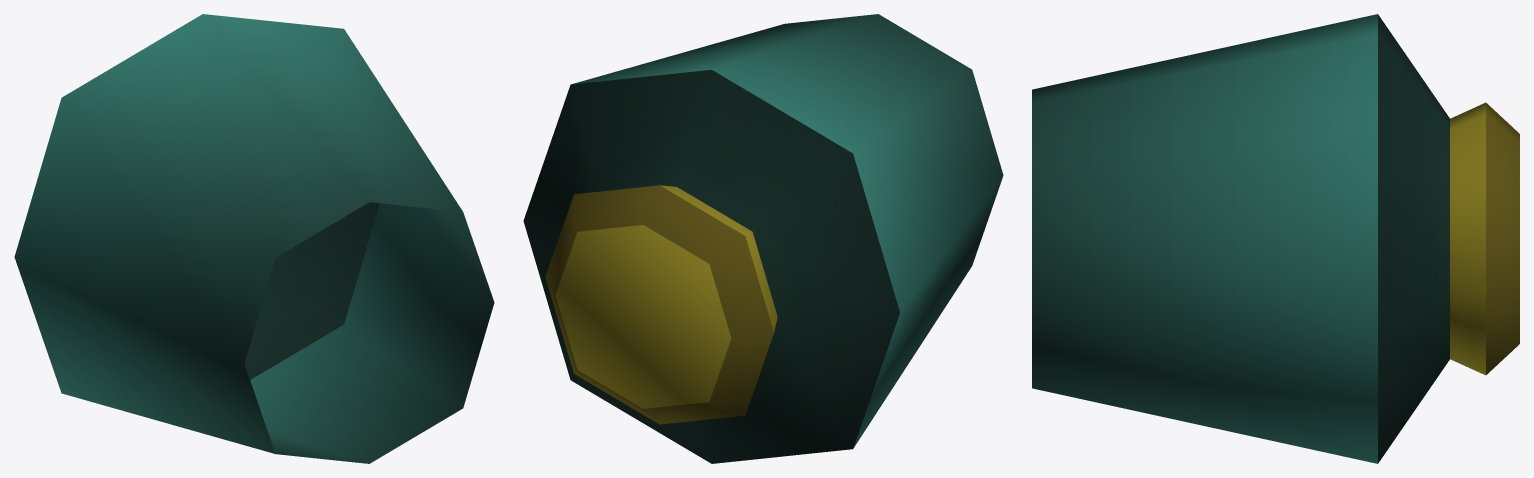
The model's file is Urn 01.FBX.
The picture shows the model from 3 angles, left to right: view 1: azimuth 30°, elevation 25°; view 2: azimuth 150°, elevation 25°; view 3: azimuth 270°, elevation 25°; orthographic projection. The views are drawn at different scales.
Visible parts, largest first — view 1: Urn 01; view 2: Urn 01; view 3: Urn 01.
Part boxes in pixels (x1,y1,x2,y2): Urn 01: (14,14,494,463); Urn 01: (523,14,1003,463); Urn 01: (1032,14,1519,463).
Size of the model in its own units: 48.78 by 48.78 by 52.7.
